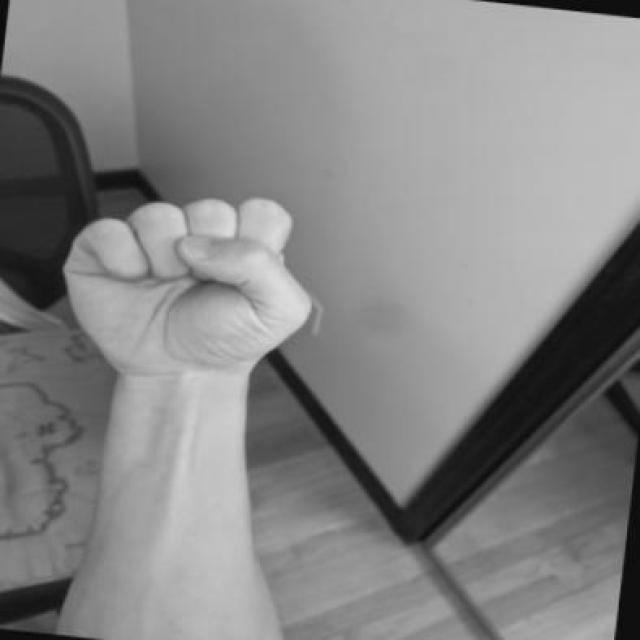S: (45, 171, 332, 397)
